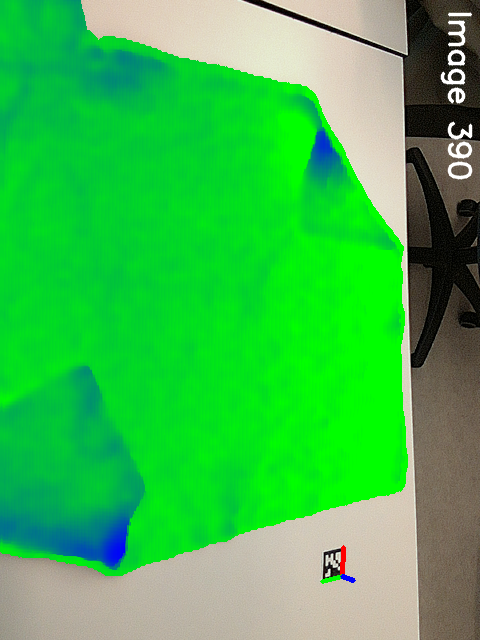V: (54, 346, 118, 412), (289, 188, 345, 247)
